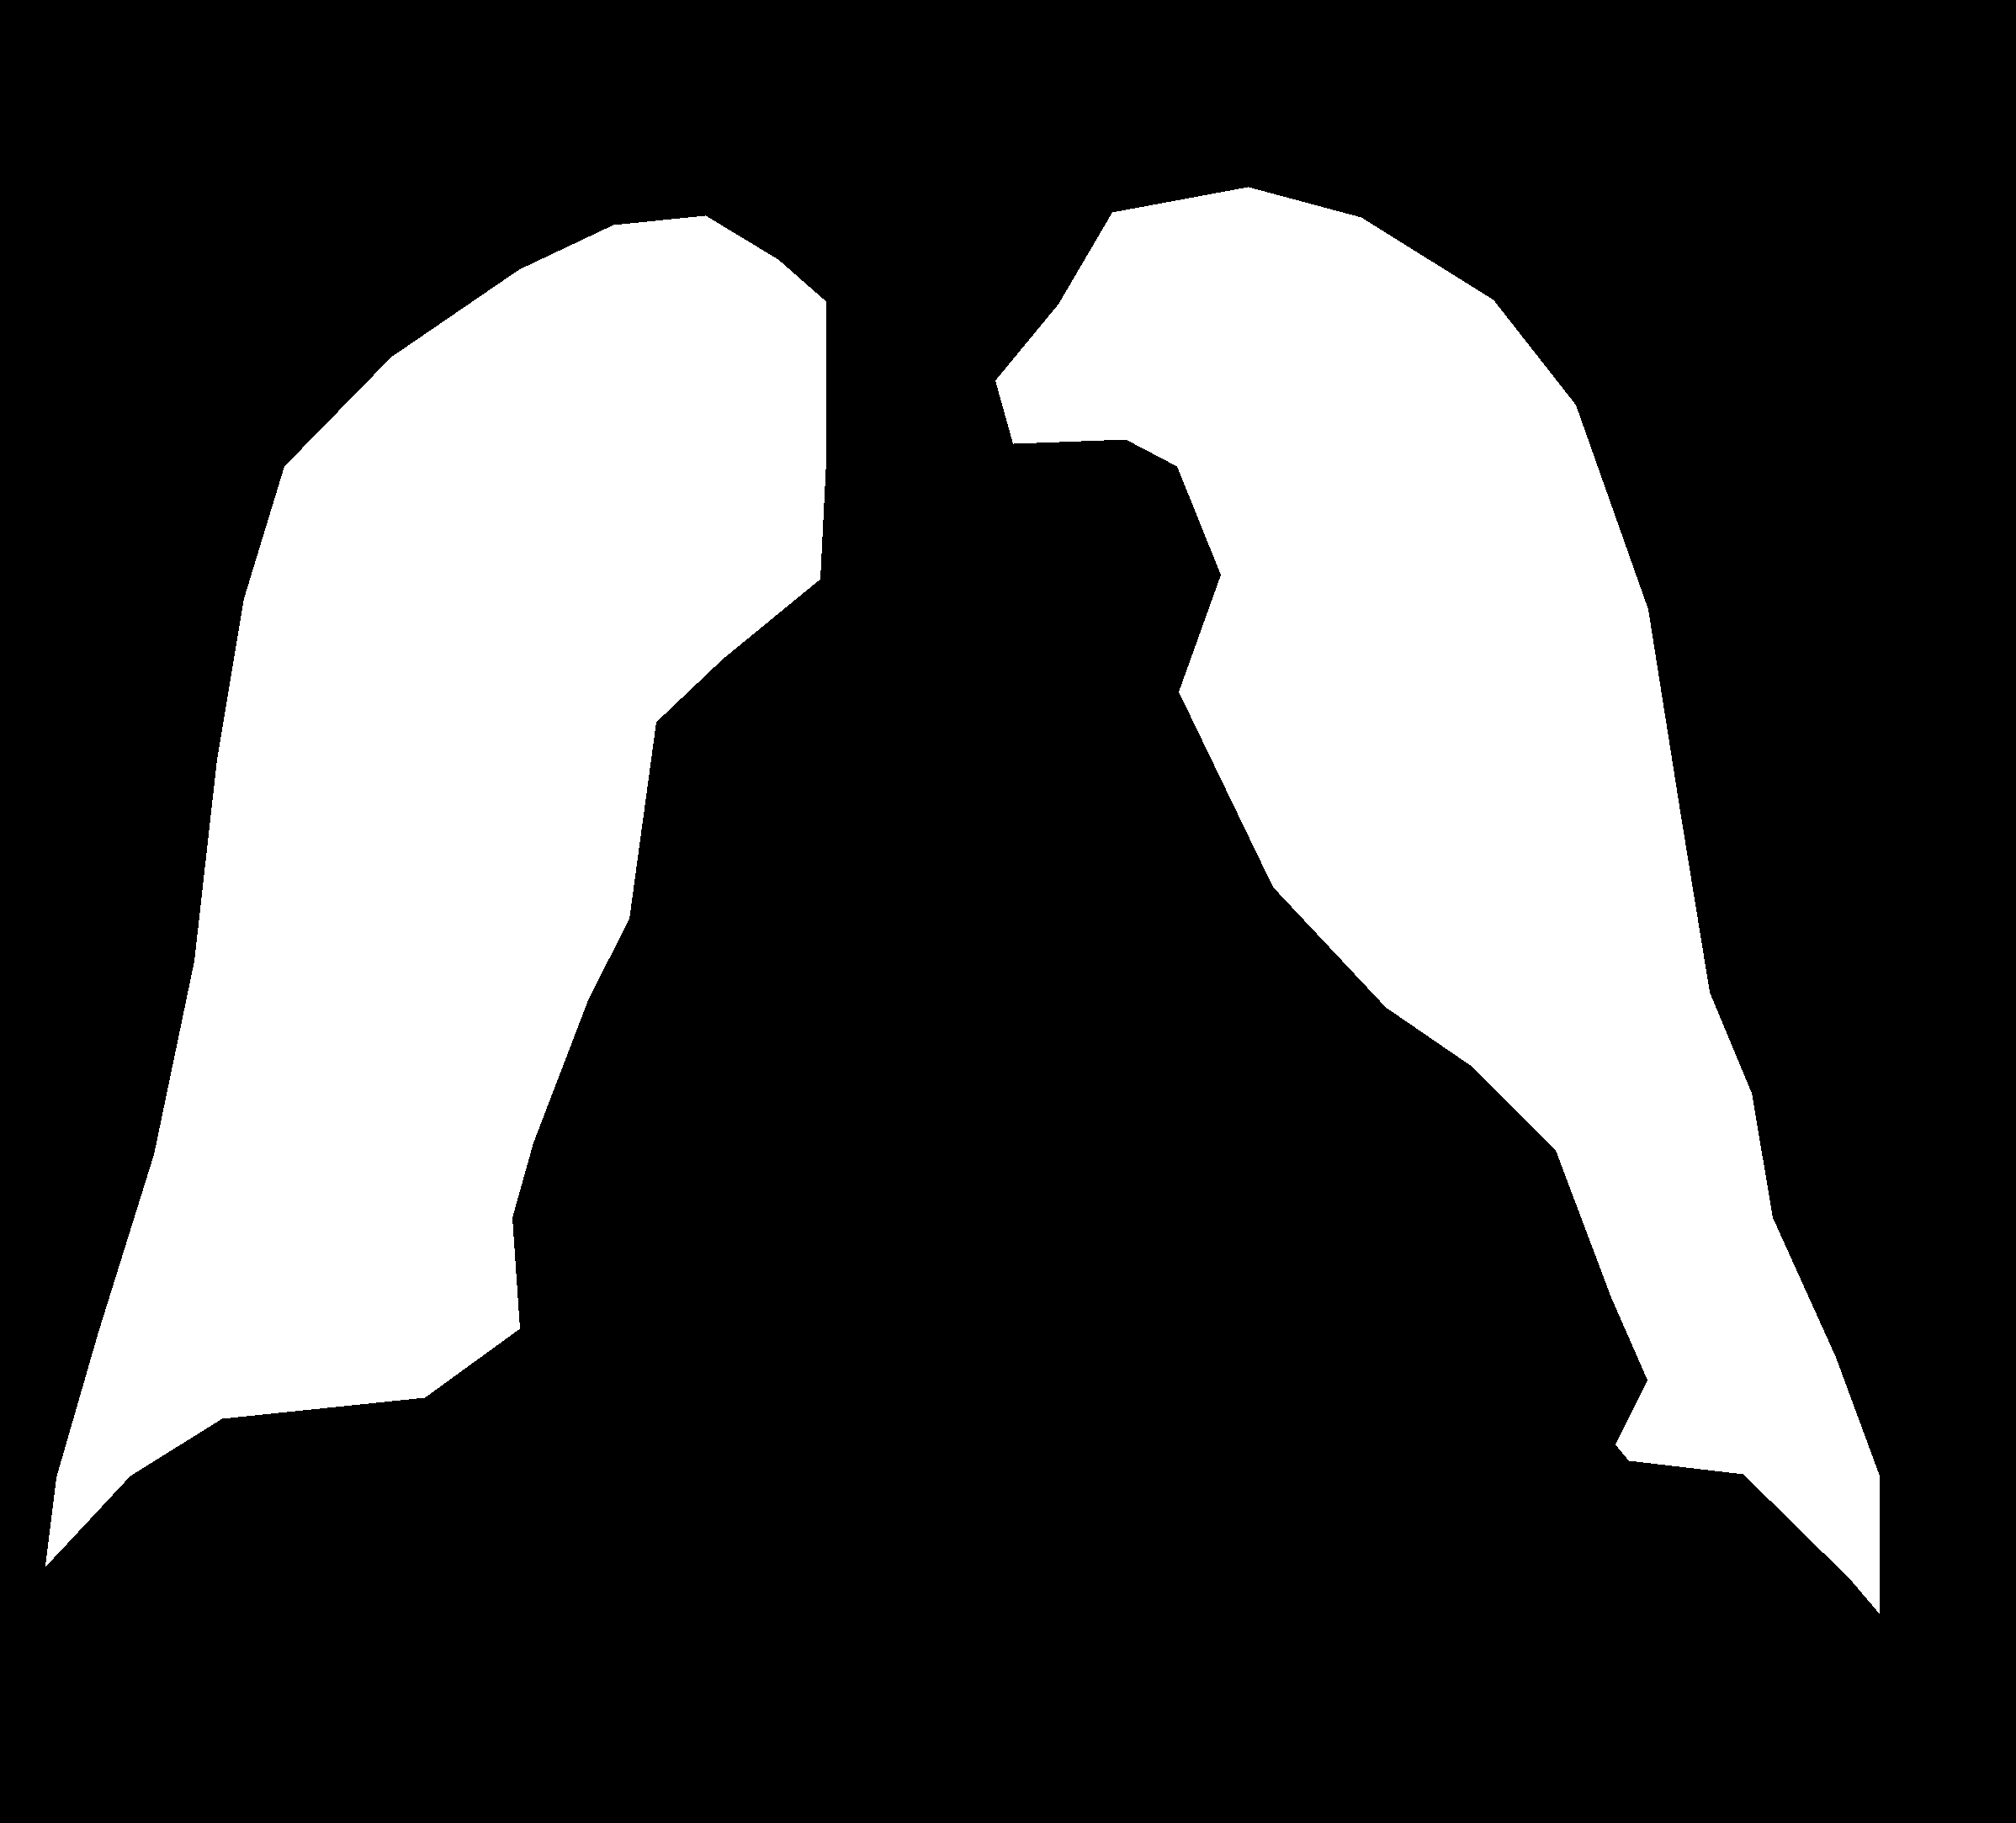heart: (444, 590, 1631, 1544)
left_lung: (46, 216, 825, 1565)
right_lung: (996, 186, 1879, 1612)
